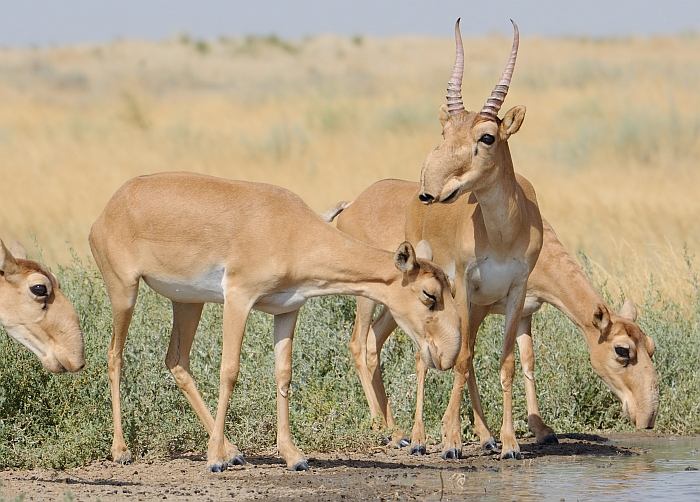saiga: (88, 172, 465, 476), (324, 176, 661, 470), (334, 16, 520, 464), (1, 236, 85, 377)
